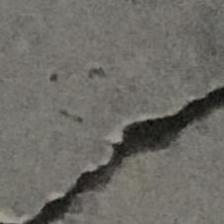Crack: (1, 40, 224, 224)
